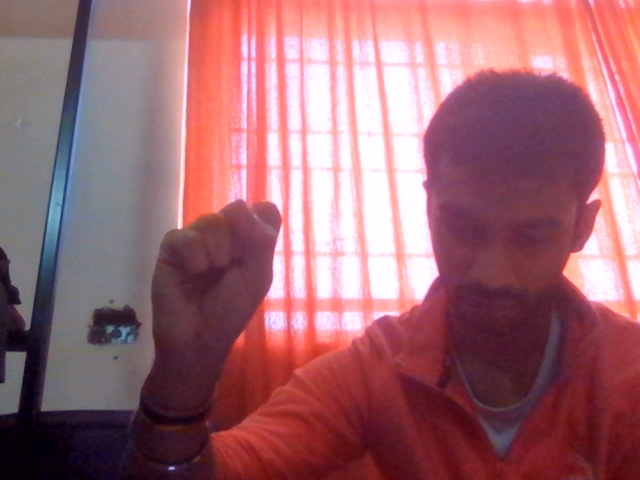S: (100, 163, 341, 400)
